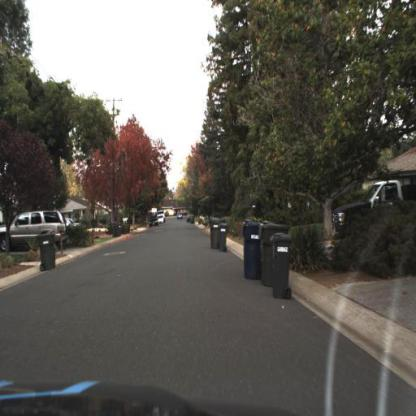car: (332, 179, 416, 245), (1, 200, 65, 260), (74, 217, 86, 233), (150, 216, 160, 230), (157, 211, 166, 224), (178, 213, 184, 220)
